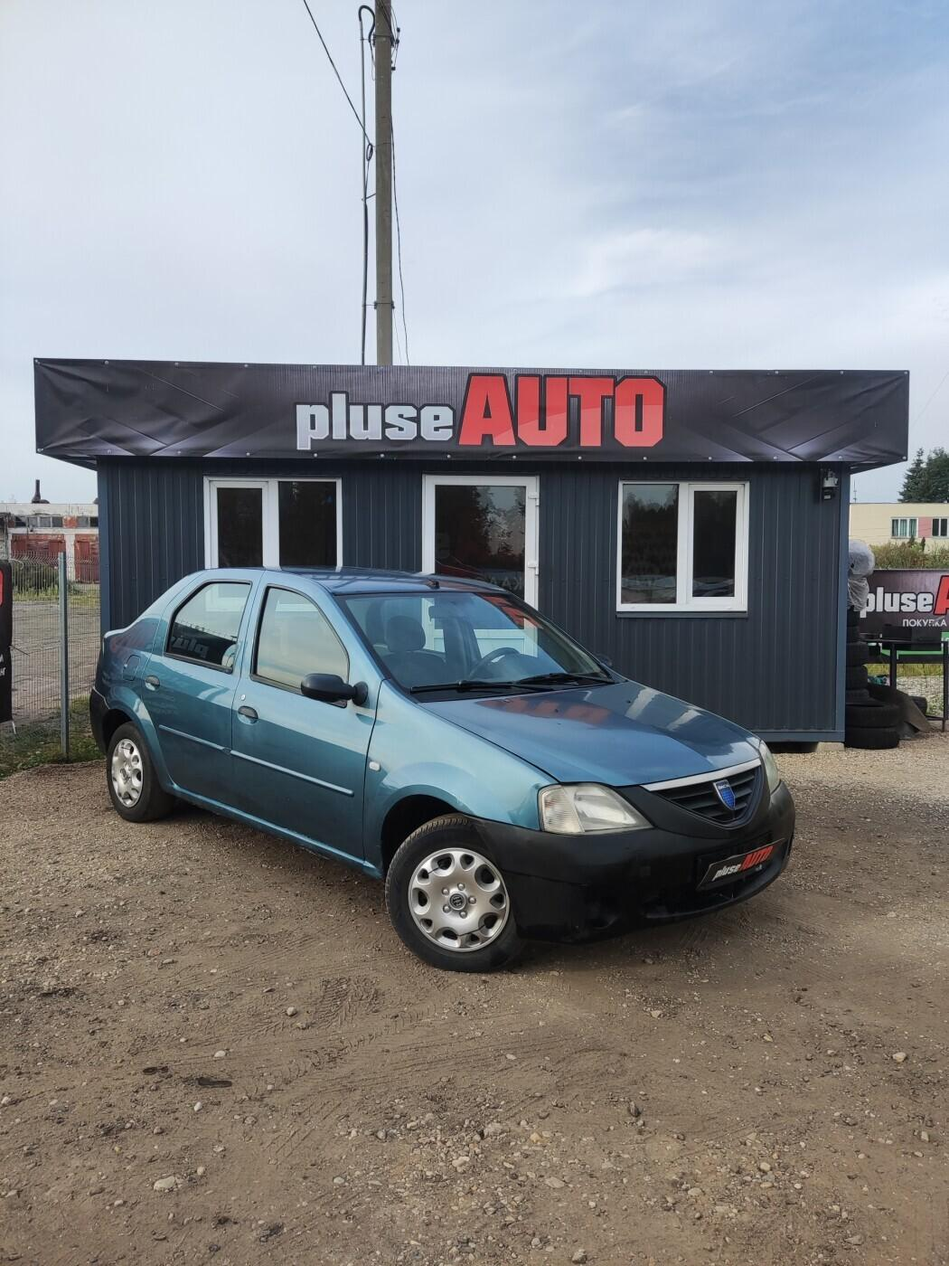Logan_2004-2009: (89, 568, 797, 971)
